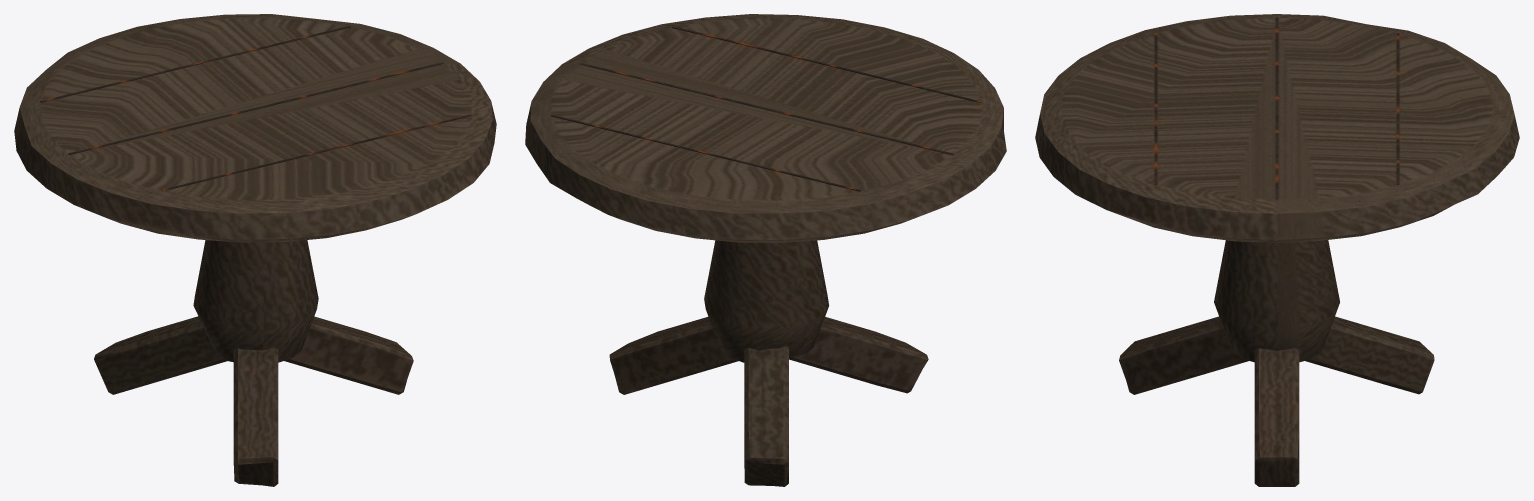
Rendered from round_table.glb.
3 views of the same model, side by side, from view 1: azimuth 30°, elevation 25°; view 2: azimuth 150°, elevation 25°; view 3: azimuth 270°, elevation 25° (orthographic).
Visible parts, largest first — view 1: round_table; view 2: round_table; view 3: round_table.
Part boxes in pixels (x1,y1,x2,y2): round_table: (14, 14, 496, 486); round_table: (525, 14, 1006, 486); round_table: (1035, 14, 1519, 486).
Size of the model in its own units: 0.9193 by 0.6556 by 0.9212.
1 material, 1 textured.
